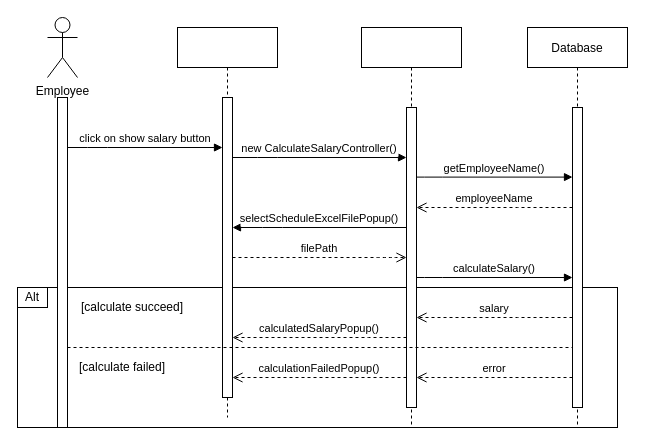
This 645x445 diagram has some shape labels left out. The box of each missing label's shape, as (x1, y1, x2, y2) in pixels:
CalculateSalary Controller: (360, 26, 462, 428)
EmployeeHome PageView: (176, 26, 278, 418)
